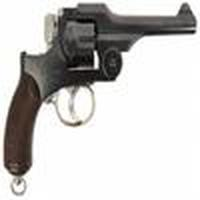gun: (1, 2, 200, 174)
